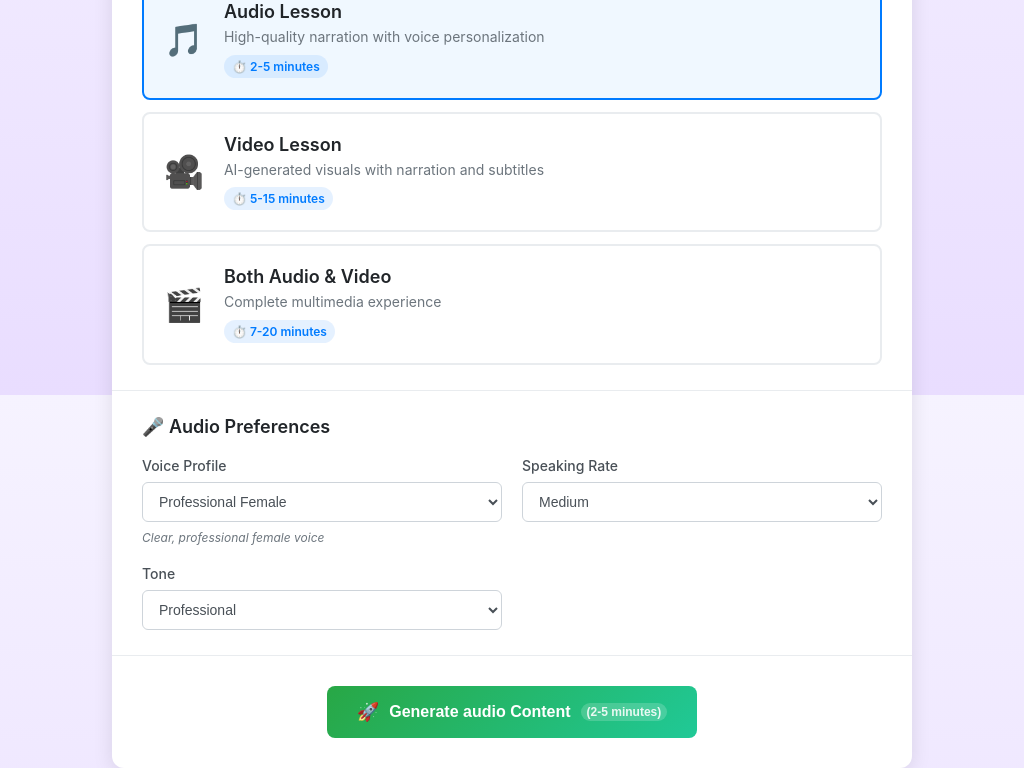
MultimediaGenerator › Audio Preferences › should allow changing voice profile
(page scrolled)
Select "Friendly Male" in the dropdown showing "Professional Female" below "Voice Profile": (322, 502) [142,482,502,522]
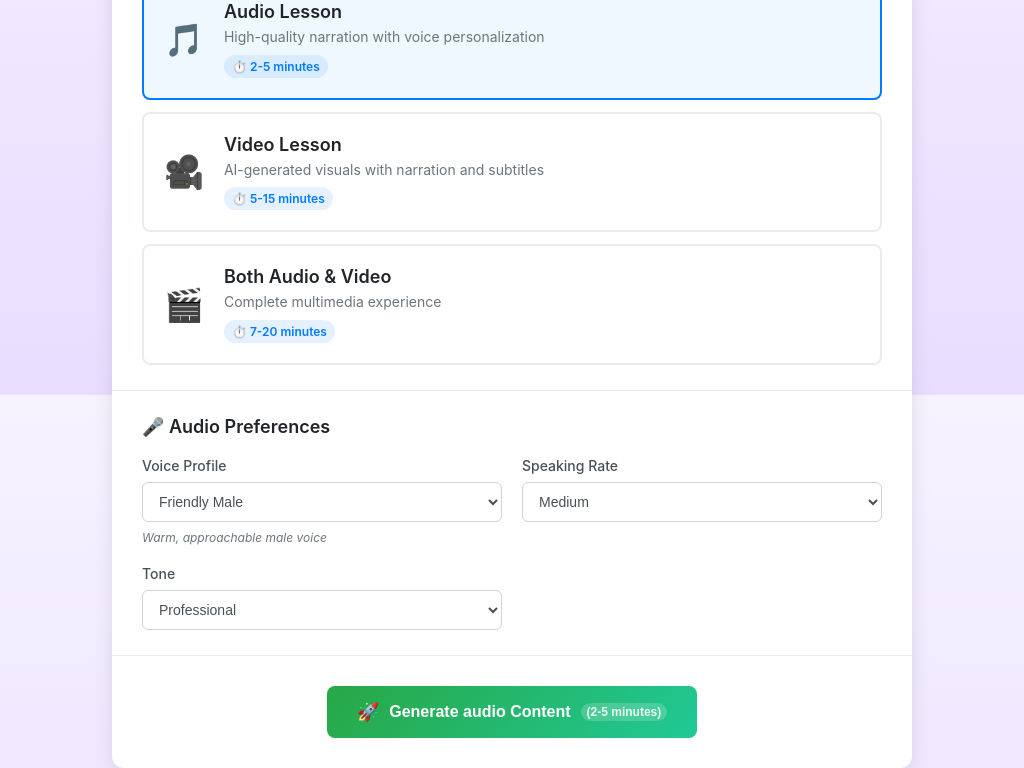
expect the text "Warm, approachable male voice" is shown: met, box [142,530,327,545]
